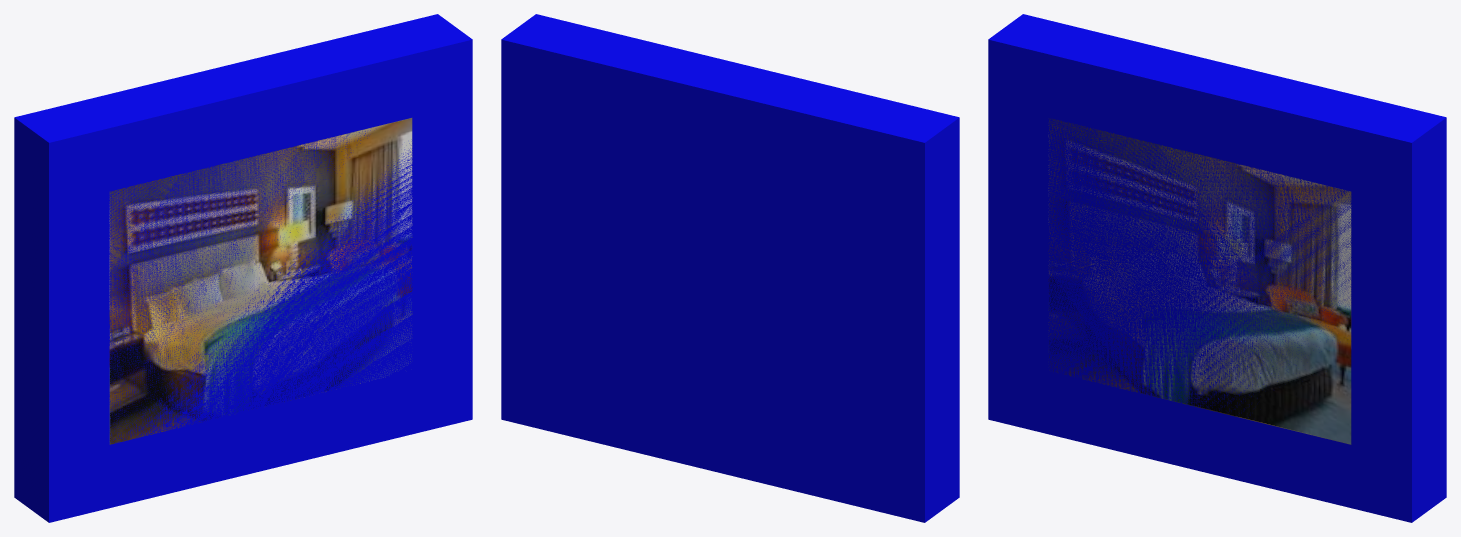
3 views of the same model, side by side, from view 1: azimuth 30°, elevation 25°; view 2: azimuth 150°, elevation 25°; view 3: azimuth 330°, elevation 25° (orthographic).
Visible parts, largest first — view 1: PhotoPlane; view 2: PhotoPlane; view 3: PhotoPlane.
Part boxes in pixels (x1,y1,x2,y2): PhotoPlane: (14,14,472,522); PhotoPlane: (501,14,959,522); PhotoPlane: (988,14,1446,522).
Size of the model in its own units: 7 by 6 by 1.
Materials: 2 (1 with a texture image).
